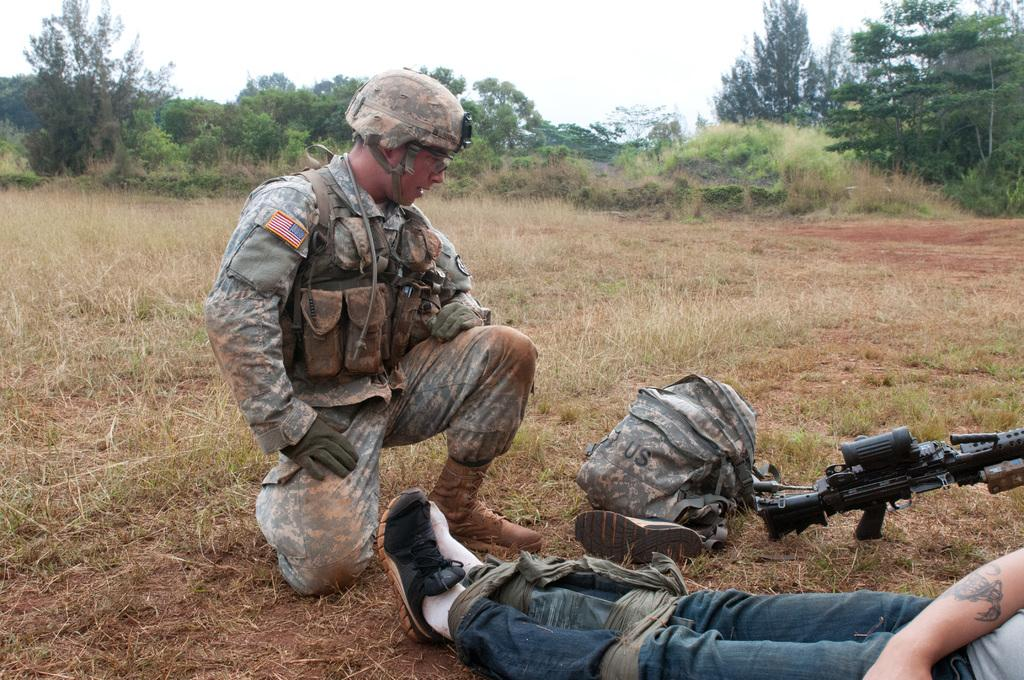Rifle: (756, 430, 1011, 562)
